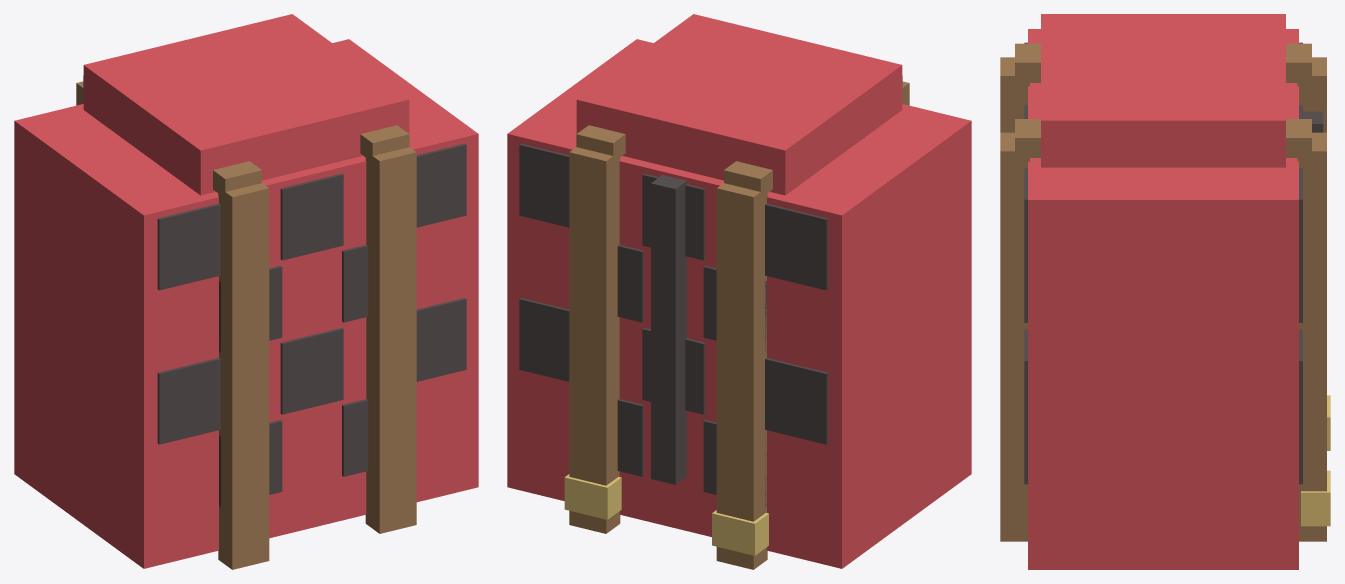
File: lenhador_tronco.glb
3 views of the same model, side by side, from view 1: azimuth 30°, elevation 25°; view 2: azimuth 150°, elevation 25°; view 3: azimuth 270°, elevation 25° (orthographic). The views are drawn at different scales.
Visible parts, largest first — view 1: lenhador_tronco; view 2: lenhador_tronco; view 3: lenhador_tronco.
Boxes of the visible parts, left/top/right/bottom form: lenhador_tronco: left=14, top=14, right=478, bottom=569; lenhador_tronco: left=507, top=14, right=971, bottom=569; lenhador_tronco: left=1000, top=14, right=1330, bottom=569.
Bounding box in the file's own units: 0.545 × 0.635 × 0.445.
